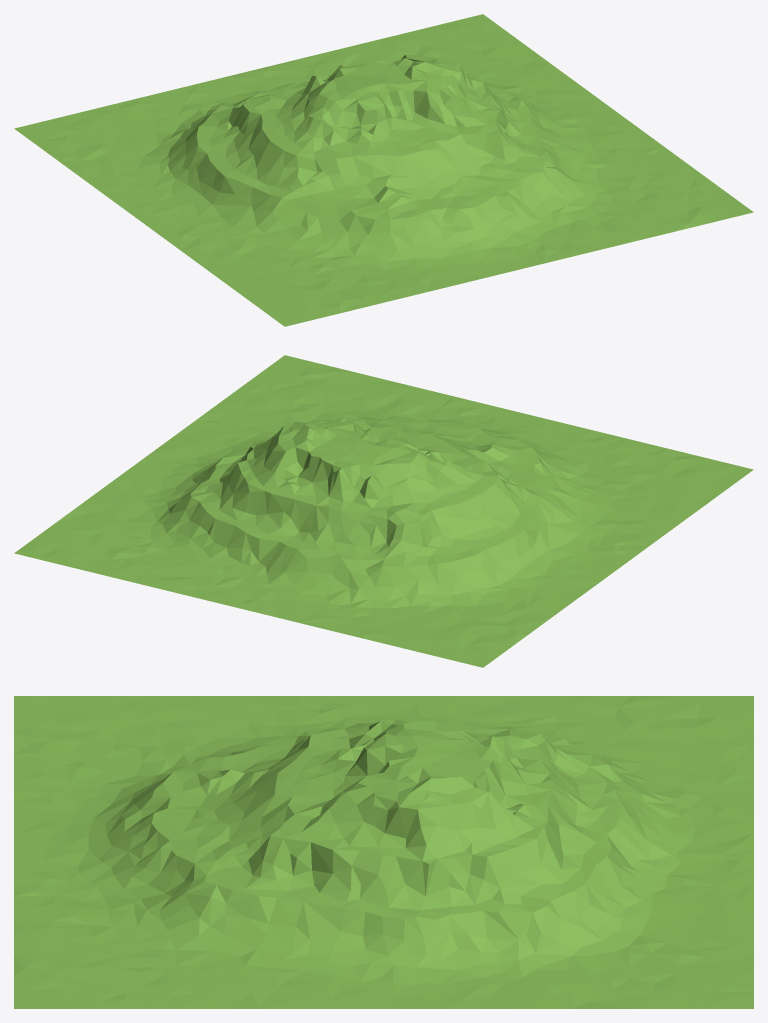
File: MT_Terrain_L_c_22.fbx
3 views of the same model, one above another, from view 1: azimuth 30°, elevation 25°; view 2: azimuth 150°, elevation 25°; view 3: azimuth 270°, elevation 25° (orthographic). The views are drawn at different scales.
Visible parts, largest first — view 1: MT_Terrain_L_c_22; view 2: MT_Terrain_L_c_22; view 3: MT_Terrain_L_c_22.
Boxes of the visible parts, box(x1,y1,x2,y2) form: MT_Terrain_L_c_22: box(14, 14, 753, 326); MT_Terrain_L_c_22: box(14, 355, 753, 667); MT_Terrain_L_c_22: box(14, 696, 753, 1008).
Bounding box in the file's own units: 10000 × 1707 × 10000.
